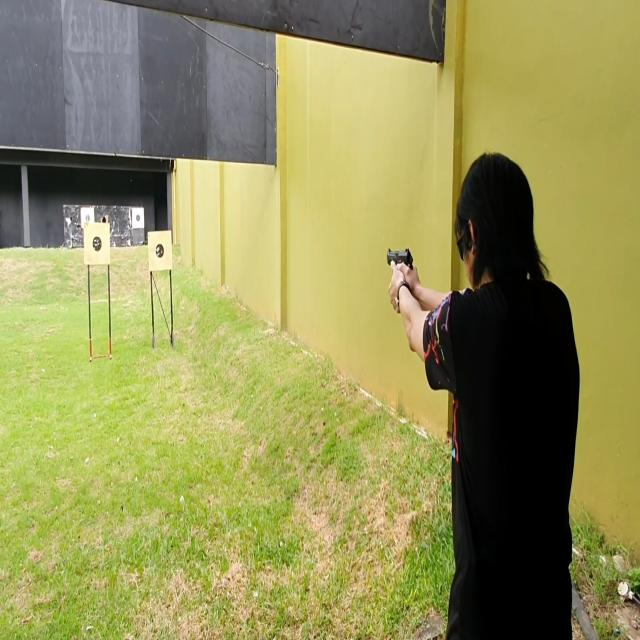handgun: (384, 242, 416, 273)
